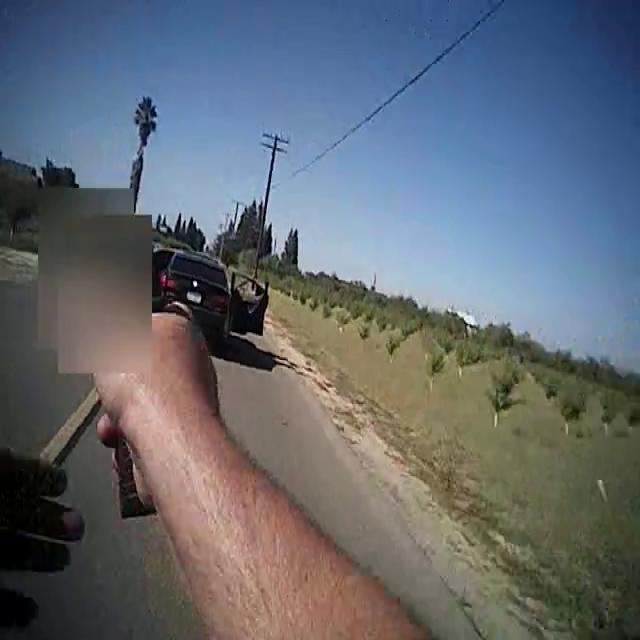gun: (94, 403, 168, 561)
